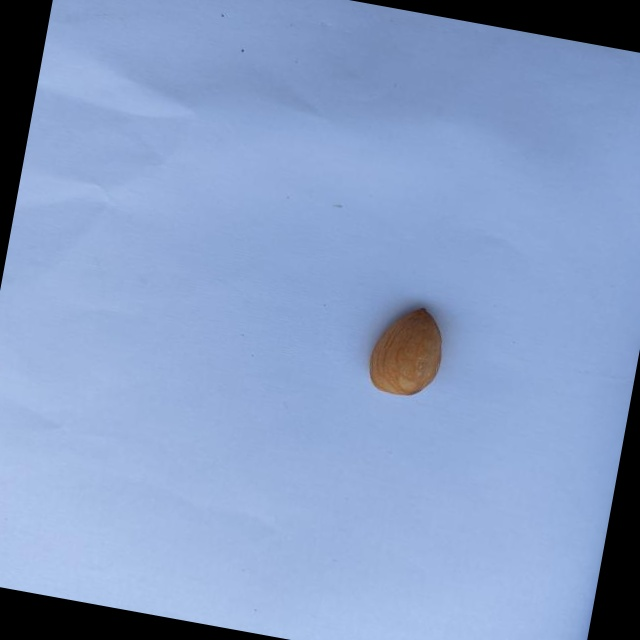grade2: (357, 296, 453, 405)
